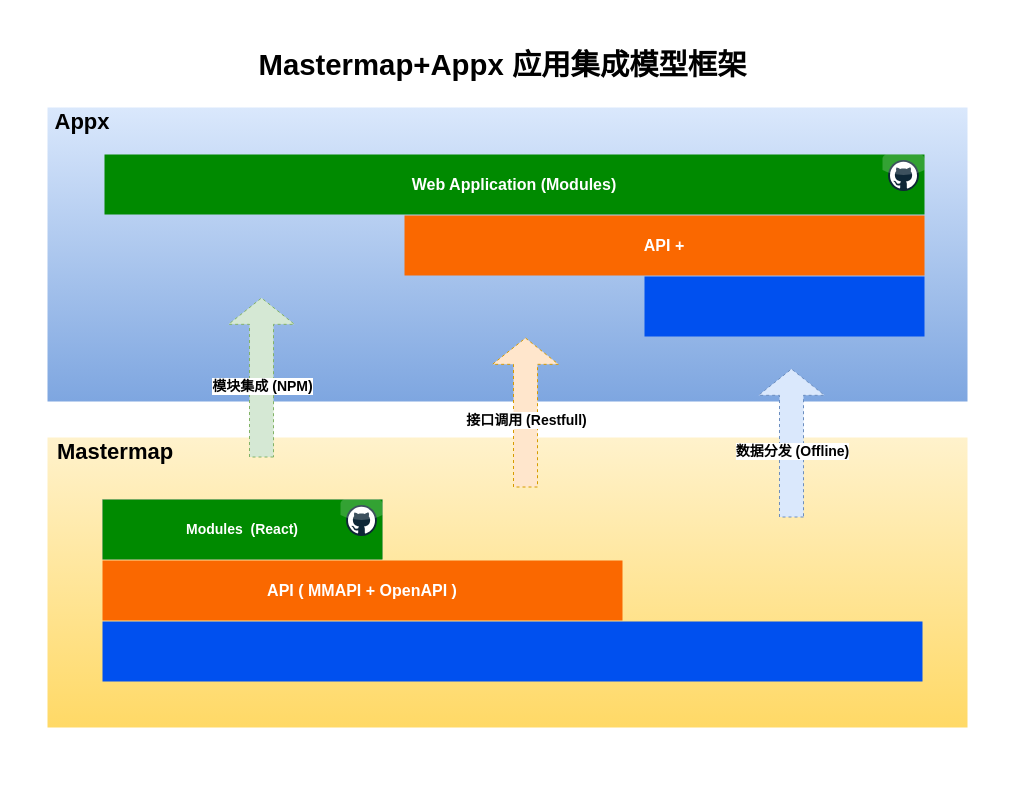
Some shapes in this 1015 by 785 pixel diagram are drawn without their labels. The box of each missing label's shape, as (x1, y1, x2, y2) in pixels:
BusinessDB +: (644, 276, 924, 336)
Data（PostgreSQL）: (102, 621, 922, 681)
